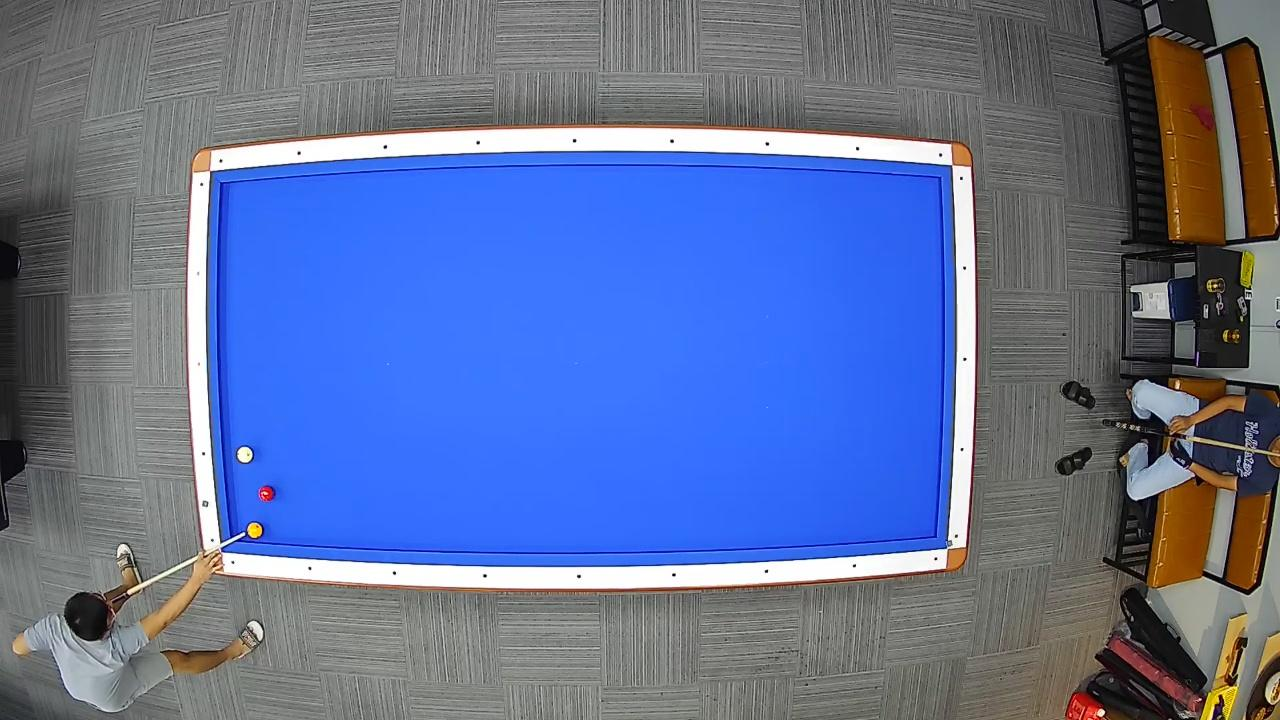Red: (257, 486, 275, 502)
White: (234, 444, 254, 464)
Yellow: (248, 522, 264, 540)
